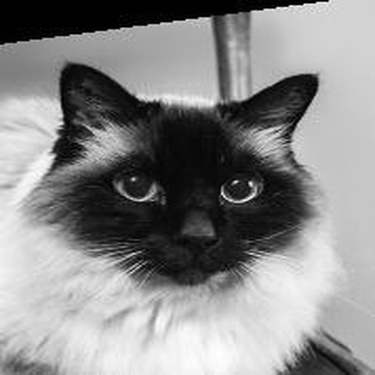cat: (3, 56, 336, 373)
